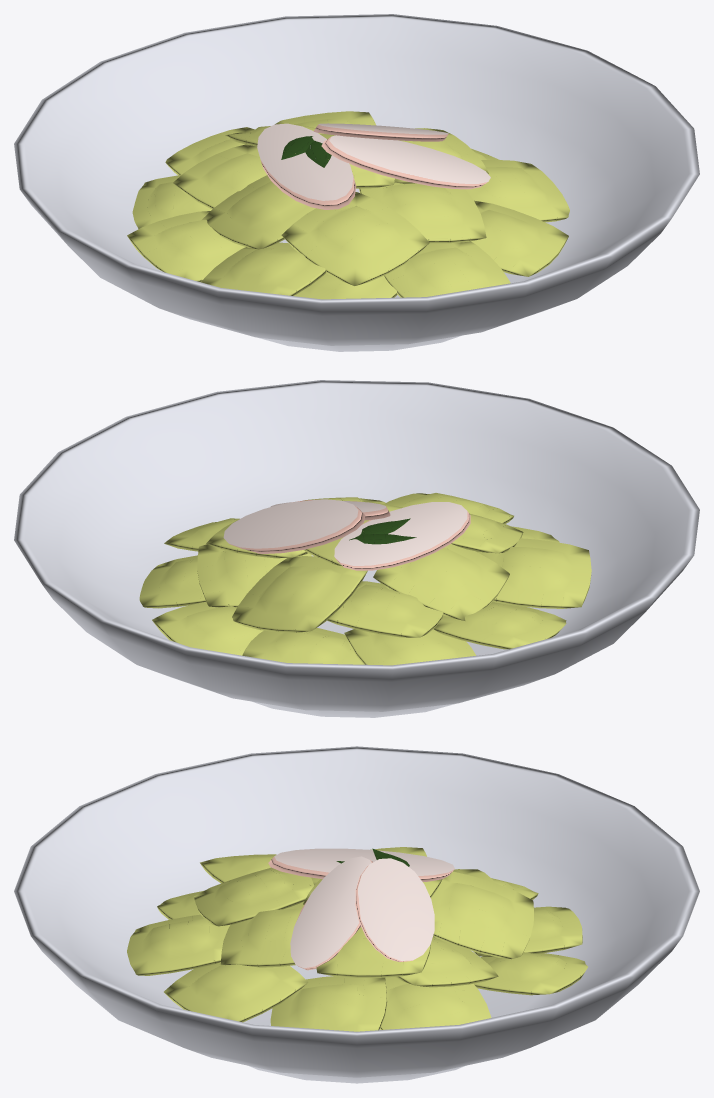
The model's file is finished_dish.fbx.
3 views of the same model, one above another, from view 1: azimuth 30°, elevation 25°; view 2: azimuth 150°, elevation 25°; view 3: azimuth 270°, elevation 25° (orthographic).
Parts seen in each view (by area): view 1: polySurface1; view 2: polySurface1; view 3: polySurface1.
Part boxes in pixels (left/top/right/bottom): polySurface1: left=14, top=14, right=699, bottom=351; polySurface1: left=14, top=380, right=699, bottom=717; polySurface1: left=14, top=746, right=699, bottom=1083.
Size of the model in its own units: 3.99 by 0.9449 by 3.99.
